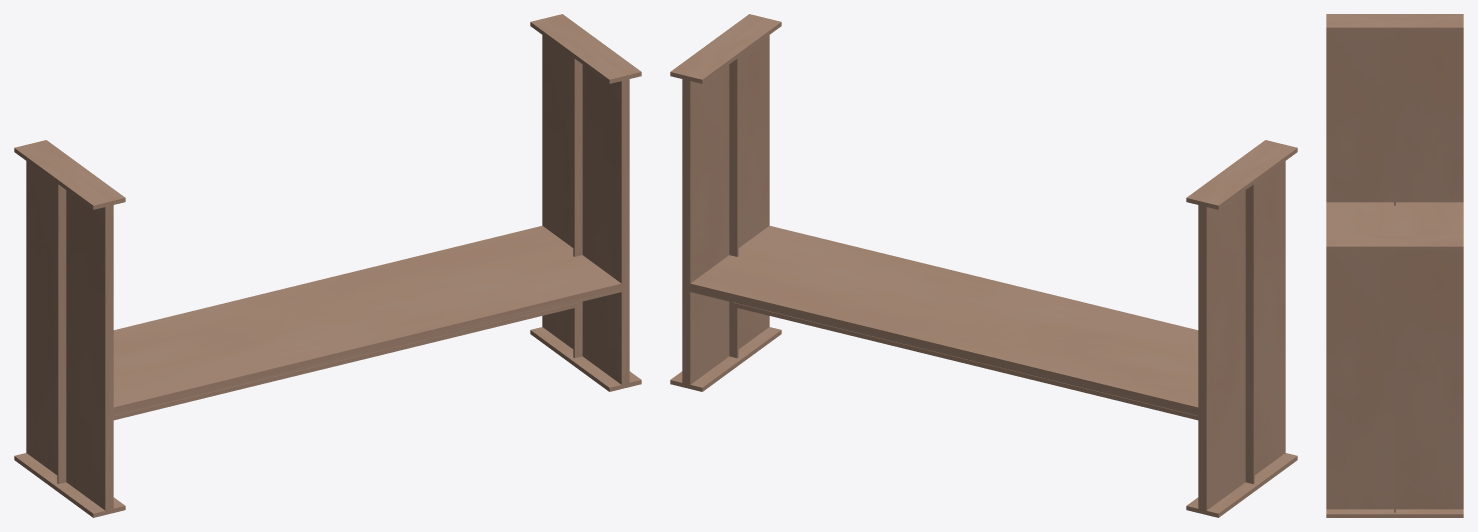
The model's file is nyc_subway_metal_viaduct.obj.
The picture shows the model from 3 angles, left to right: view 1: azimuth 30°, elevation 25°; view 2: azimuth 150°, elevation 25°; view 3: azimuth 270°, elevation 25°; orthographic projection. The views are drawn at different scales.
Parts seen in each view (by area): view 1: cube; view 2: cube; view 3: cube.
Part boxes in pixels (left/top/right/bottom): cube: left=14, top=14, right=641, bottom=517; cube: left=670, top=14, right=1297, bottom=517; cube: left=1326, top=14, right=1463, bottom=517.
Size of the model in its own units: 4.25 by 2.31 by 1.06.
1 material, 1 textured.
